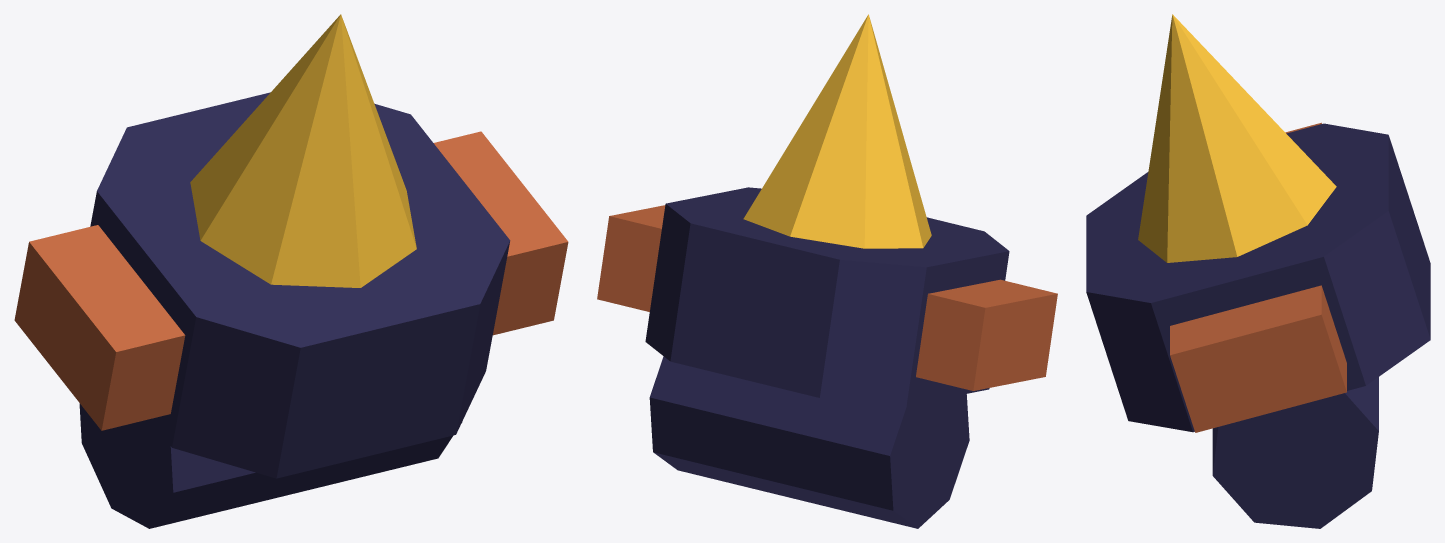
Rendered from Drill 3.fbx.
3 renders of one model, left to right at view 1: azimuth 30°, elevation 25°; view 2: azimuth 150°, elevation 25°; view 3: azimuth 270°, elevation 25°, orthographic. The views are drawn at different scales.
Parts seen in each view (by area): view 1: Drill 3; view 2: Drill 3; view 3: Drill 3.
Boxes of the visible parts, x1,y1,x2,y2 form: Drill 3: (14,14,568,528); Drill 3: (597,14,1057,528); Drill 3: (1086,14,1430,528).
Bounding box in the file's own units: 3.89 × 4.29 × 2.95.
